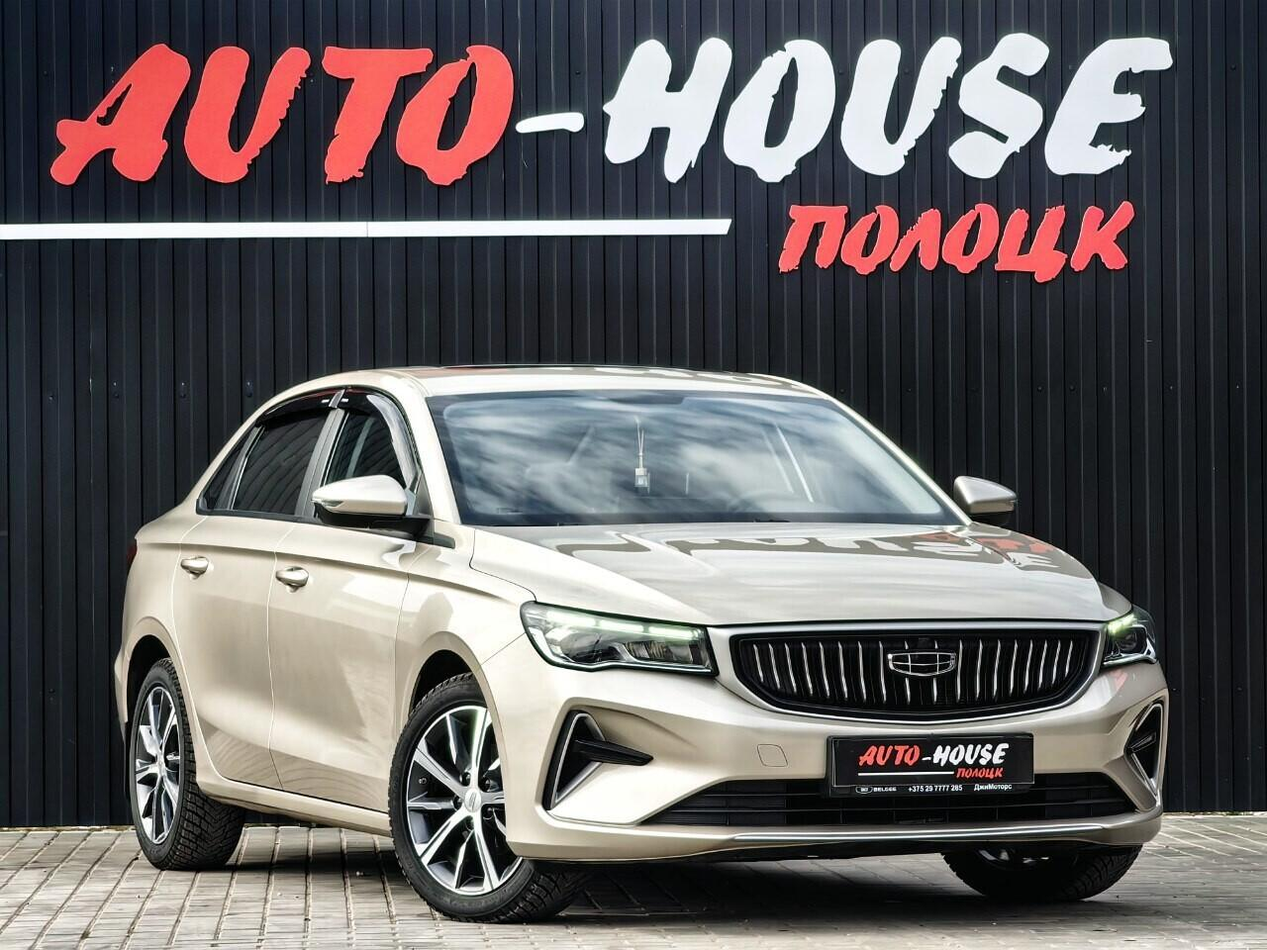Emgrand_2021: (106, 355, 1172, 925)
